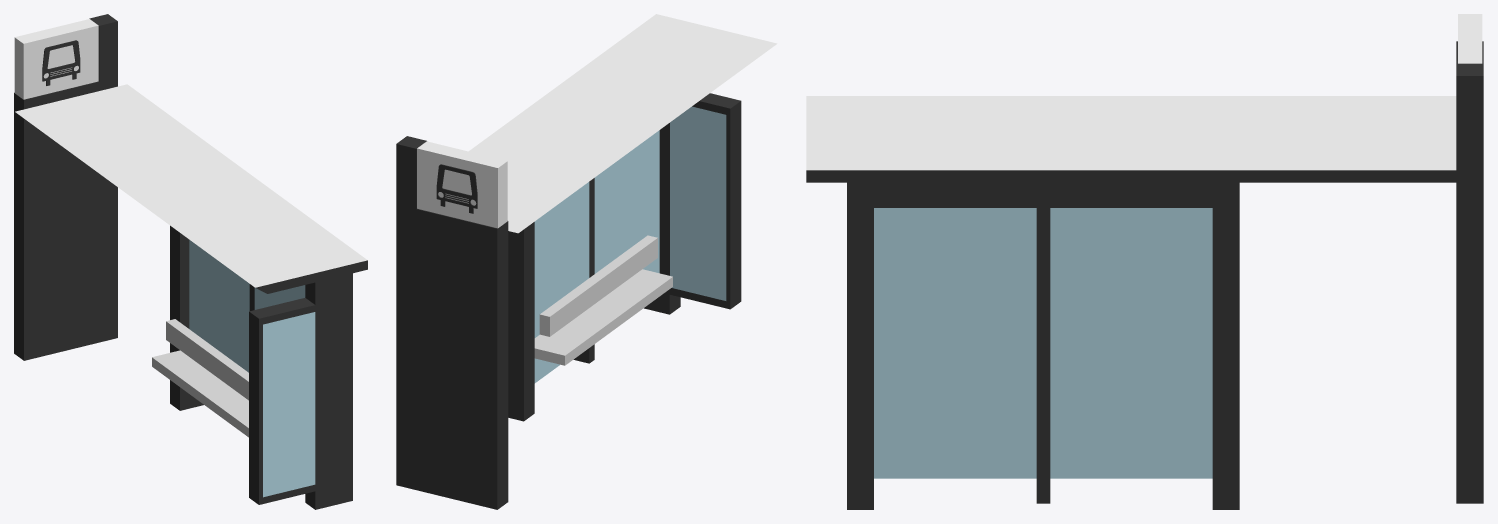
The model's file is BusStation2.glb.
3 renders of one model, left to right at view 1: azimuth 30°, elevation 25°; view 2: azimuth 150°, elevation 25°; view 3: azimuth 270°, elevation 25°, orthographic. The views are drawn at different scales.
Parts seen in each view (by area): view 1: BusStaion2; view 2: BusStaion2; view 3: BusStaion2.
Boxes of the visible parts, x1=… form: BusStaion2: x1=14, y1=14, x2=367, y2=509; BusStaion2: x1=396, y1=14, x2=777, y2=509; BusStaion2: x1=806, y1=14, x2=1483, y2=509.
Bounding box in the file's own units: 8.63 × 23.18 × 33.25.
